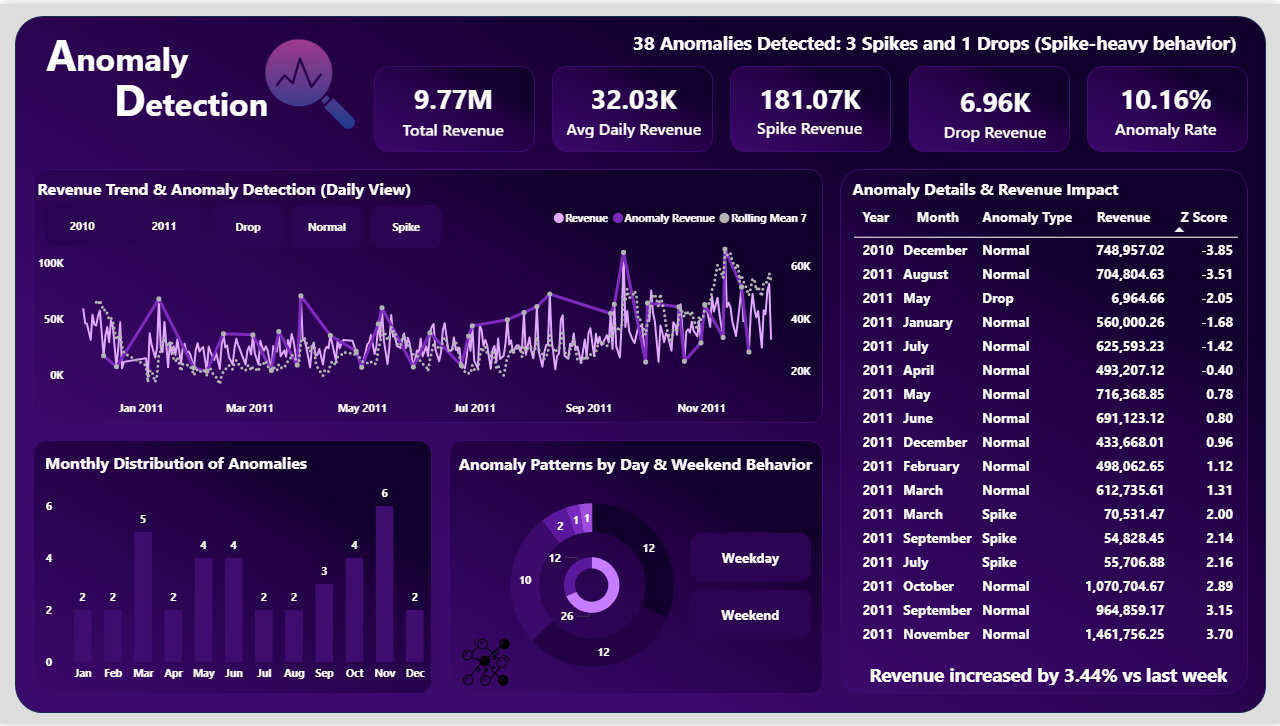

What the dashboard file says about the page in this screenshot:
{"tool":"powerbi","page":{"name":"Time-Series Analysis","canvas":[1280,720],"ordinal":0},"visuals":[{"type":"image","box":[448.8,633.8,73.8,48.8],"z":0},{"type":"lineChart","title":"Revenue Trend & Anomaly Detection (Daily View)","fields":{"Y":["Sum(daily_anomaly_data.Revenue)","daily_anomaly_data.Anomaly Revenue"],"Category":["Date_Dim.Date.Variation.Date Hierarchy.Year","Date_Dim.Date.Variation.Date Hierarchy.Month","Date_Dim.Date.Variation.Date Hierarchy.Day"],"Y2":["Sum(daily_anomaly_data.Rolling_Mean_7)"]},"box":[32.5,173.8,783.8,247.5],"z":1000},{"type":"advancedSlicerVisual","fields":{"Values":["Date_Dim.Year"]},"box":[40,196.2,167.5,51.2],"z":2000},{"type":"donutChart","fields":{"Y":["_Measueres.Total Anomalies"],"Category":["Date_Dim.Day Name"]},"box":[432.5,463.8,320,235],"z":3000},{"type":"cardVisual","fields":{"Data":["_Measueres.Total Revenue"]},"box":[371.4,64.3,164.3,85.7],"z":4000},{"type":"advancedSlicerVisual","fields":{"Values":["Date_Dim.Weekend_Label"]},"box":[685,523.8,131.2,117.5],"z":5000},{"type":"cardVisual","fields":{"Data":["_Measueres.Anomaly Insight"]},"box":[602.9,8.6,665.7,57.1],"z":6000},{"type":"advancedSlicerVisual","fields":{"Values":["daily_anomaly_data.Anomaly_Type"]},"box":[207.5,196.2,241.2,53.8],"z":7000},{"type":"cardVisual","fields":{"Data":["_Measueres.Avg Daily Revenue"]},"box":[535.7,60,195.7,91.4],"z":8000},{"type":"cardVisual","fields":{"Data":["daily_anomaly_data.Spike Revenue"]},"box":[725.7,57.1,167.1,95.7],"z":9000},{"type":"tableEx","title":"Anomaly Details & Revenue Impact ","fields":{"Values":["Date_Dim.Date.Variation.Date Hierarchy.Year","Date_Dim.Date.Variation.Date Hierarchy.Month","daily_anomaly_data.Anomaly_Type","Sum(daily_anomaly_data.Revenue)","Sum(daily_anomaly_data.Z_Score)"]},"box":[847.1,174.3,401.4,508.6],"z":10000},{"type":"columnChart","title":"Monthly Distribution of Anomalies","fields":{"Y":["_Measueres.Total Anomalies"],"Category":["Date_Dim.Month"]},"box":[40,447.1,401.4,238.6],"z":11000},{"type":"cardVisual","fields":{"Data":["_Measueres.Anomaly Rate"]},"box":[1084.3,55.7,164.3,98.6],"z":12000},{"type":"cardVisual","fields":{"Data":["daily_anomaly_data.Drop Revenue"]},"box":[912.9,61.4,165.7,94.3],"z":13000},{"type":"donutChart","fields":{"Category":["Date_Dim.Weekend_Label"],"Y":["_Measueres.Total Anomalies"]},"box":[538.8,536.2,106.2,90],"z":14000},{"type":"cardVisual","fields":{"Data":["_Measueres.Revenue WoW Insight"]},"box":[840,641.4,417.1,57.1],"z":15000},{"type":"textbox","box":[454.3,444.3,378.6,38.6],"z":16000},{"type":"textbox","box":[41.2,16.2,172.5,67.5],"z":17000},{"type":"textbox","box":[108.8,61.2,180,71.2],"z":18000},{"type":"image","box":[255,30,108.8,100],"z":19000}]}

Visuals, with their boxes in screenshot pixels (x1, y1, x2, y2), scaled from the page's 1280x720 canvas onto the 1280x726 screenshot:
image: select_region(449, 639, 523, 688)
"Revenue Trend & Anomaly Detection (Daily View)" lineChart: select_region(32, 175, 816, 425)
advancedSlicerVisual - Date_Dim.Year: select_region(40, 198, 208, 249)
donutChart - _Measueres.Total Anomalies x Date_Dim.Day Name: select_region(432, 468, 752, 705)
cardVisual - _Measueres.Total Revenue: select_region(371, 65, 536, 151)
advancedSlicerVisual - Date_Dim.Weekend_Label: select_region(685, 528, 816, 647)
cardVisual - _Measueres.Anomaly Insight: select_region(603, 9, 1269, 66)
advancedSlicerVisual - daily_anomaly_data.Anomaly_Type: select_region(208, 198, 449, 252)
cardVisual - _Measueres.Avg Daily Revenue: select_region(536, 60, 731, 153)
cardVisual - daily_anomaly_data.Spike Revenue: select_region(726, 58, 893, 154)
"Anomaly Details & Revenue Impact " tableEx: select_region(847, 176, 1248, 689)
"Monthly Distribution of Anomalies" columnChart: select_region(40, 451, 441, 691)
cardVisual - _Measueres.Anomaly Rate: select_region(1084, 56, 1249, 156)
cardVisual - daily_anomaly_data.Drop Revenue: select_region(913, 62, 1079, 157)
donutChart - Date_Dim.Weekend_Label x _Measueres.Total Anomalies: select_region(539, 541, 645, 631)
cardVisual - _Measueres.Revenue WoW Insight: select_region(840, 647, 1257, 704)
textbox: select_region(454, 448, 833, 487)
textbox: select_region(41, 16, 214, 84)
textbox: select_region(109, 62, 289, 134)
image: select_region(255, 30, 364, 131)
